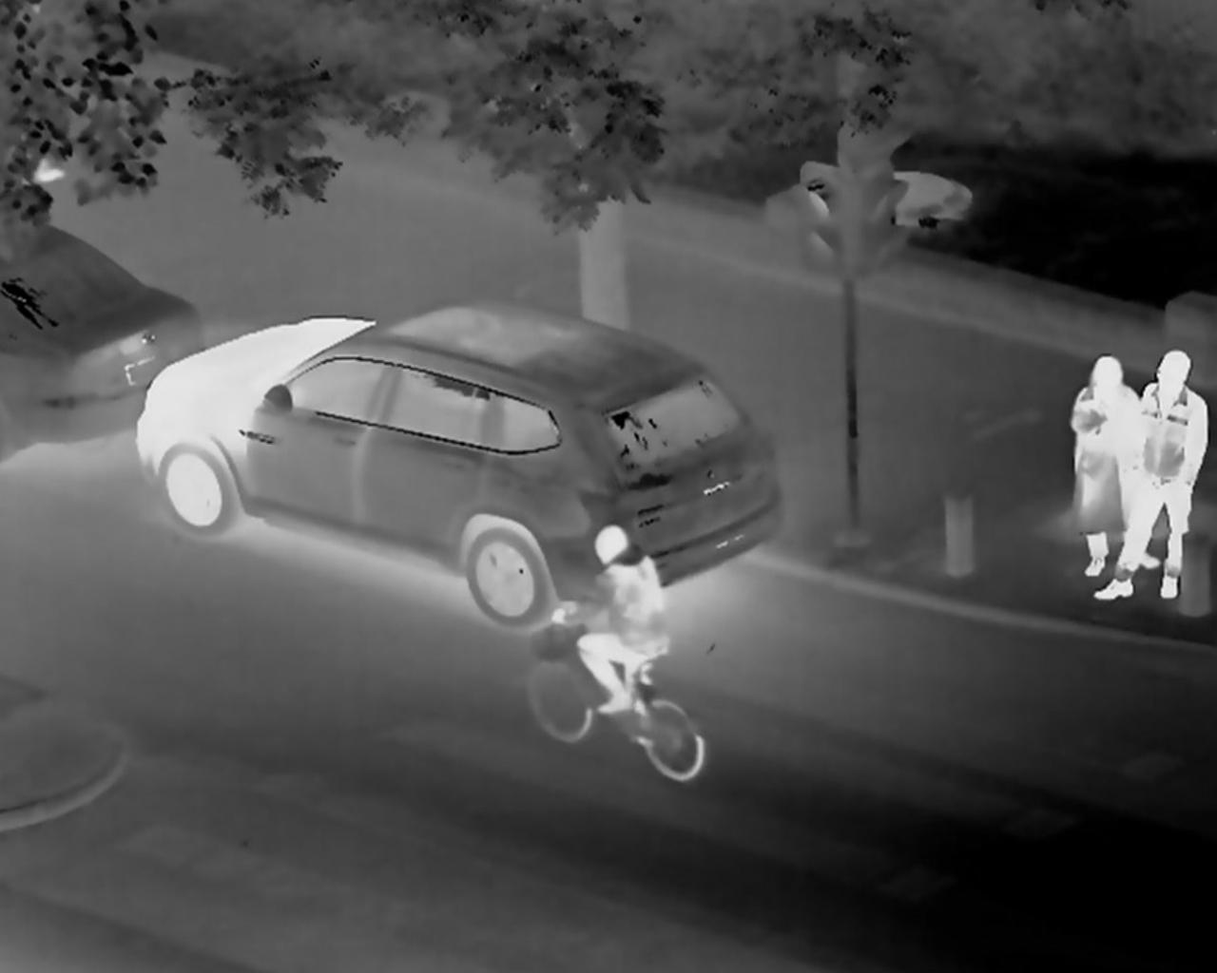person: (567, 506, 692, 727), (1042, 351, 1131, 580), (1135, 353, 1209, 611)
